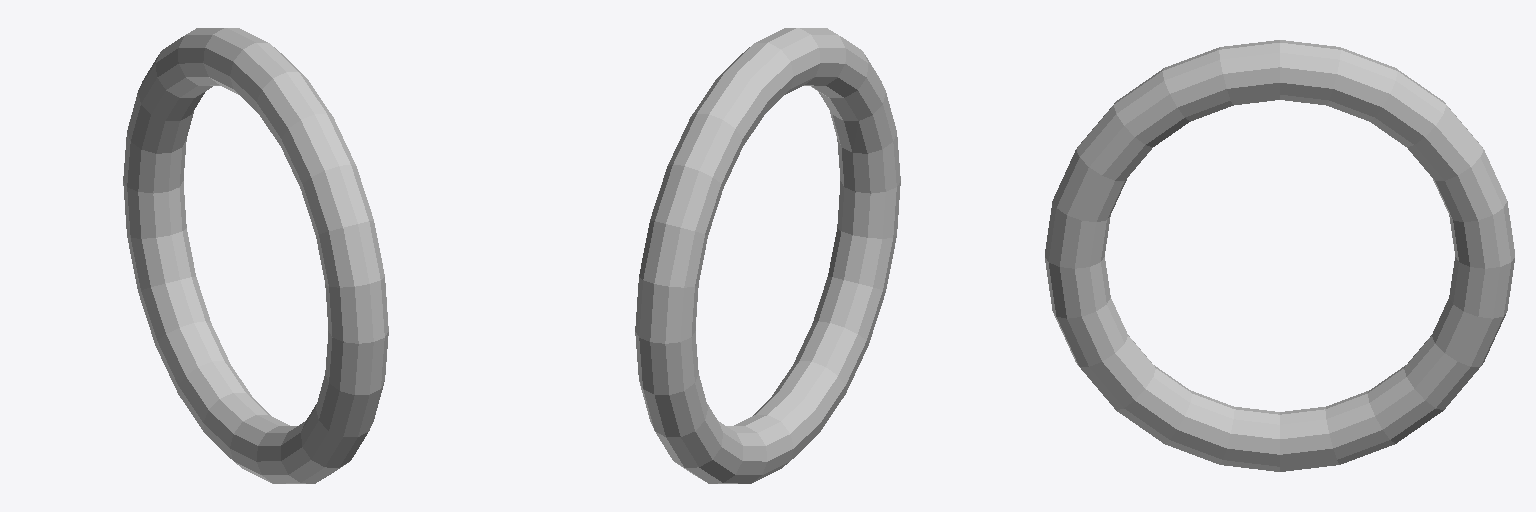
File: RingV2.obj
3 views of the same model, side by side, from view 1: azimuth 30°, elevation 25°; view 2: azimuth 150°, elevation 25°; view 3: azimuth 270°, elevation 25° (orthographic).
Visible parts, largest first — view 1: Torus001; view 2: Torus001; view 3: Torus001.
Boxes of the visible parts, box(x1,y1,x2,y2) form: Torus001: box(123, 28, 388, 483); Torus001: box(635, 28, 900, 483); Torus001: box(1045, 40, 1514, 471).
Bounding box in the file's own units: 1.34 × 10.48 × 10.48.